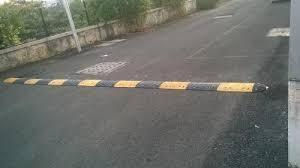speedbreaker: (0, 73, 271, 96)
